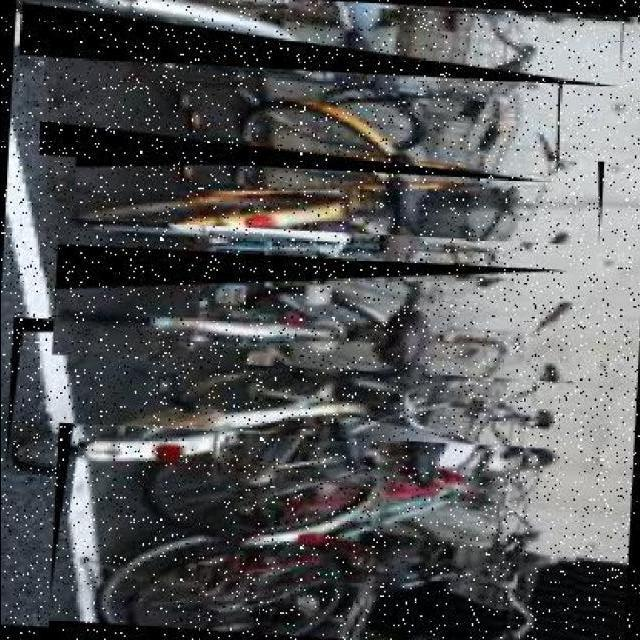bicycle: (45, 421, 582, 640), (4, 316, 535, 502), (39, 23, 565, 183), (51, 243, 585, 383), (73, 132, 605, 246), (16, 1, 624, 89)
